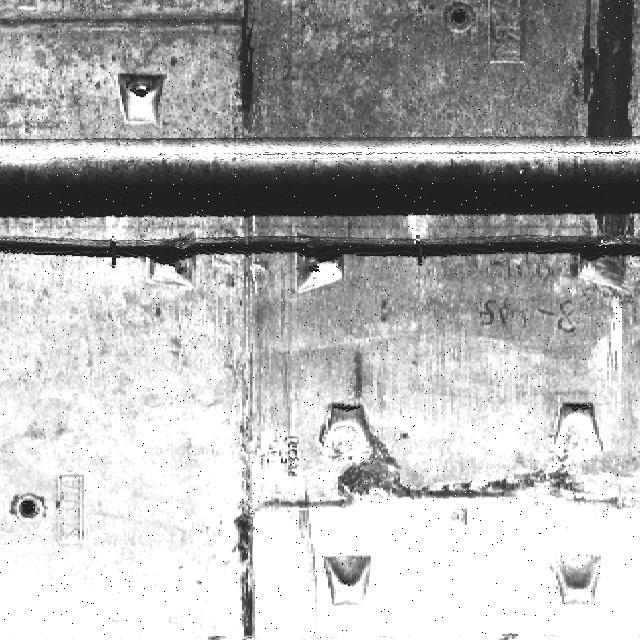leakage: (560, 1, 639, 285), (226, 479, 269, 640), (227, 1, 261, 141)
